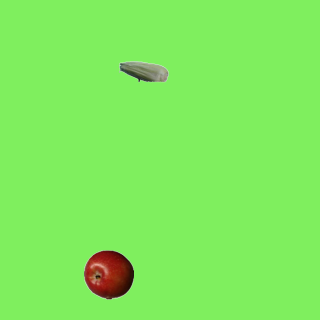Apple Braeburn: (83, 249, 133, 299)
Corn Husk: (118, 46, 168, 96)
